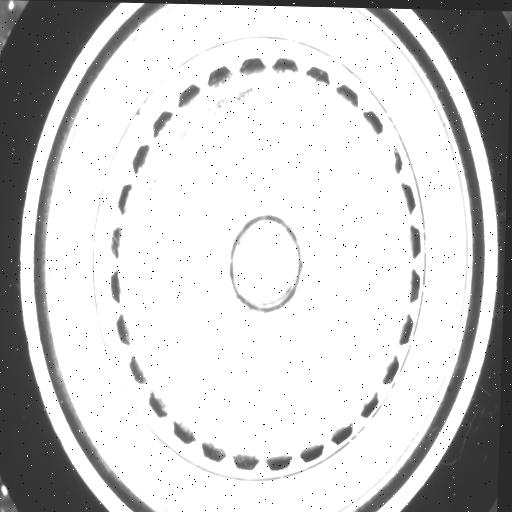gear: (104, 52, 429, 474)
